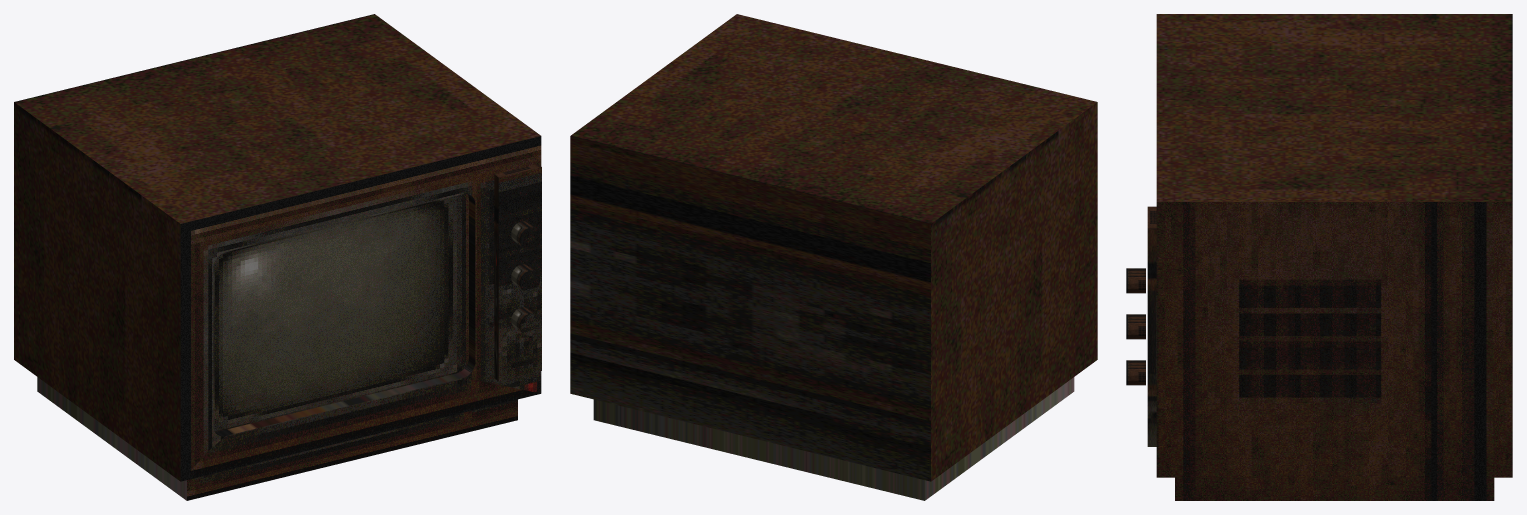
File: env_tv.glb
3 views of the same model, side by side, from view 1: azimuth 30°, elevation 25°; view 2: azimuth 150°, elevation 25°; view 3: azimuth 270°, elevation 25° (orthographic). The views are drawn at different scales.
Parts seen in each view (by area): view 1: env_tv-col; view 2: env_tv-col; view 3: env_tv-col.
Boxes of the visible parts, left/top/right/bottom form: env_tv-col: left=14, top=14, right=541, bottom=500; env_tv-col: left=570, top=14, right=1097, bottom=500; env_tv-col: left=1126, top=14, right=1512, bottom=500.
Size of the model in its own units: 0.9241 by 0.7023 by 0.8021.
Materials: 1 (1 with a texture image).
